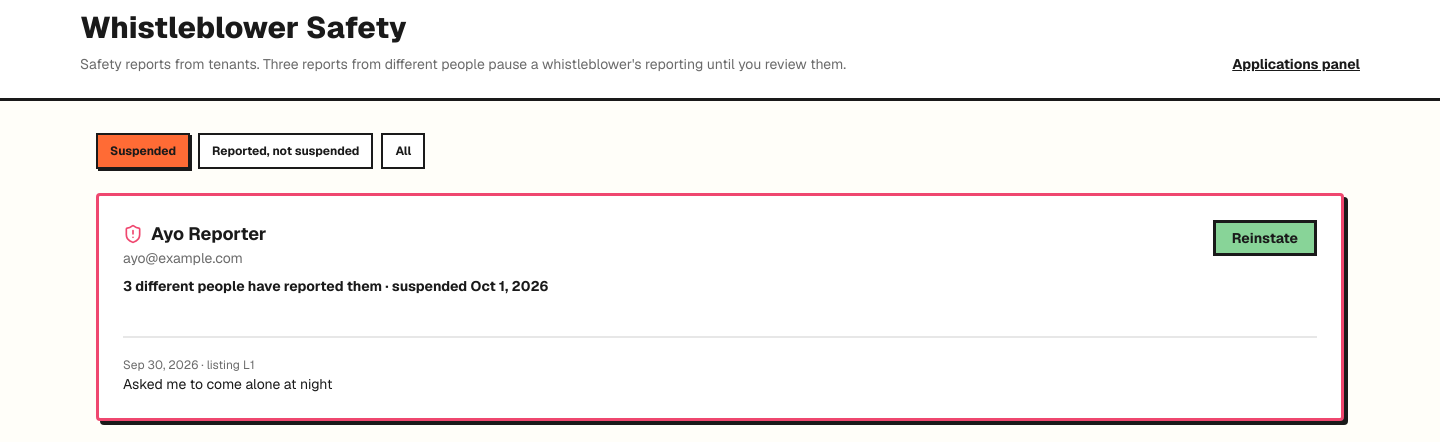
Test: WhistleblowerSafetyPage › can switch to reported-but-not-suspended and suspend early
Later steps or results of the test are not shown.
Expected: the heading "Ayo Reporter" is shown, 123,222 -> 266,245
Click the button "Reported, not suspended". click: coordinates (286, 151)
box: 198,133 -> 373,169
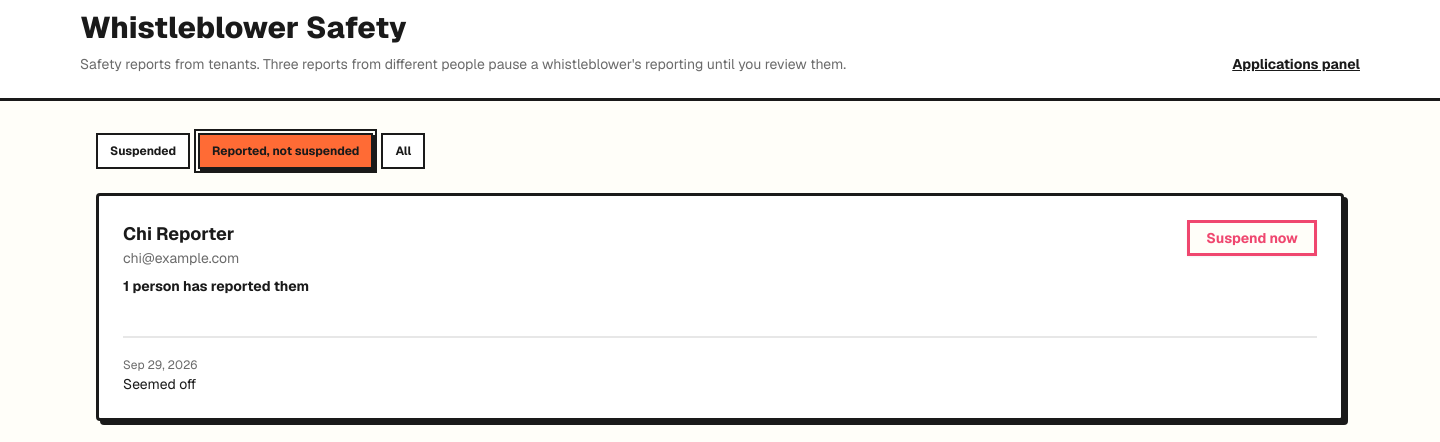
Result: the heading "Chi Reporter" is shown at 123,222 -> 234,245
